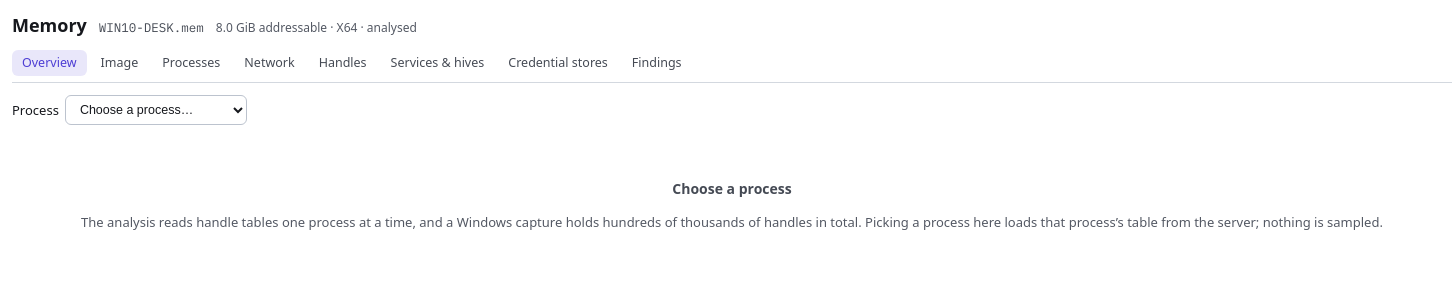
Scenario: MemoryHandlesPage › loads one process handle table from the server when a process is chosen
Select "System (4) · 340 handles" in the dropdown labelled "Process": {"x": 156, "y": 110} x1=65 y1=95 x2=247 y2=125
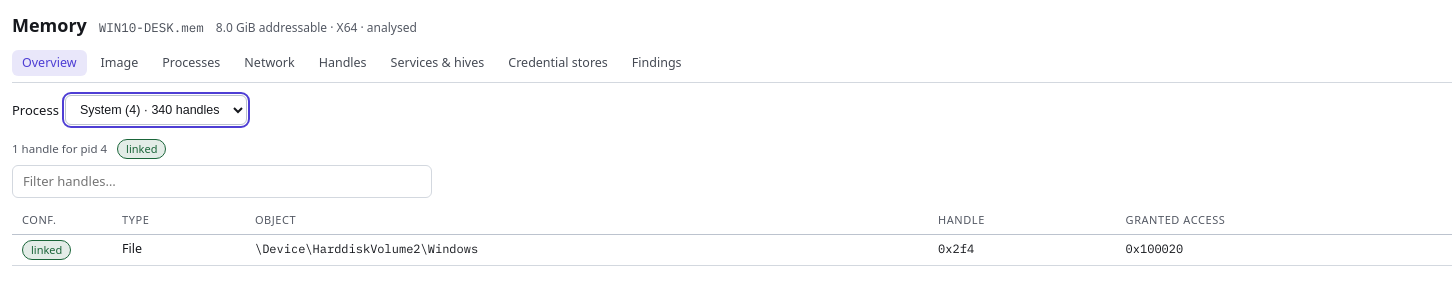
Check: the text "\\Device\\HarddiskVolume2\\Windows" is shown, box x1=245 y1=234 x2=928 y2=265
Check: the text "0x2f4" is shown, box x1=928 y1=234 x2=1116 y2=265
